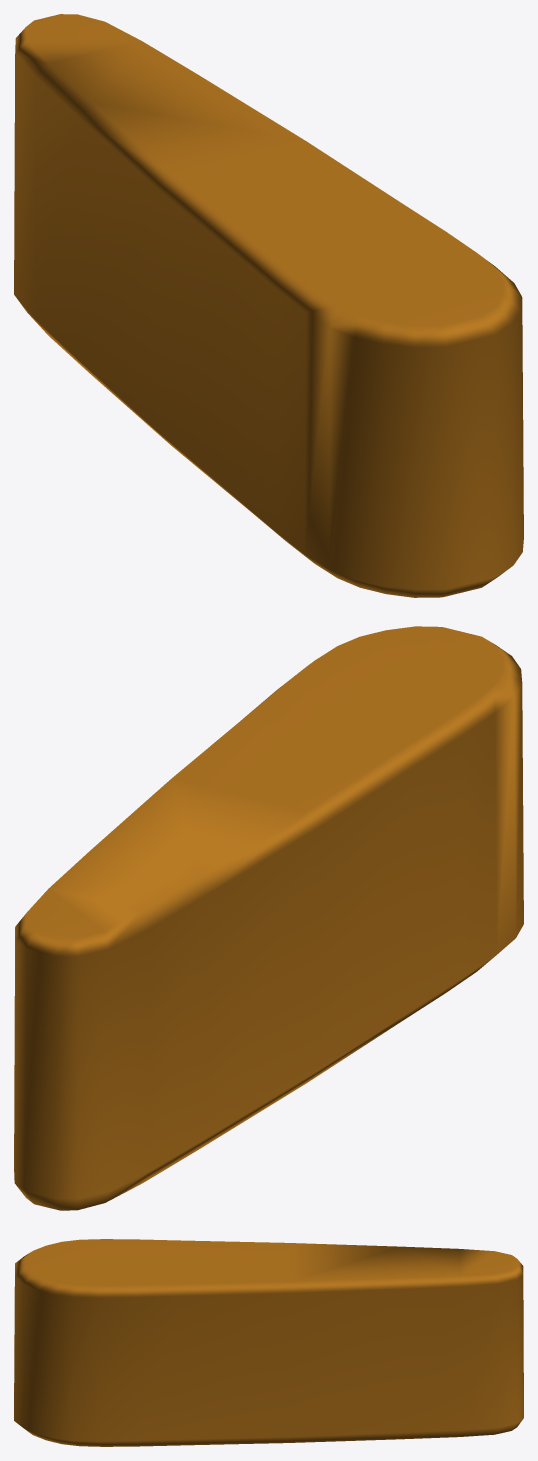
The model's file is Flipper.fbx.
The picture shows the model from 3 angles, top to bottom: view 1: azimuth 30°, elevation 25°; view 2: azimuth 150°, elevation 25°; view 3: azimuth 270°, elevation 25°; orthographic projection. The views are drawn at different scales.
Parts seen in each view (by area): view 1: Flipper; view 2: Flipper; view 3: Flipper.
Boxes of the visible parts, x1,y1,x2,y2 form: Flipper: (14, 14, 523, 597); Flipper: (14, 626, 523, 1210); Flipper: (14, 1239, 523, 1446).
Size of the model in its own units: 2.03 by 2.74 by 7.86.
